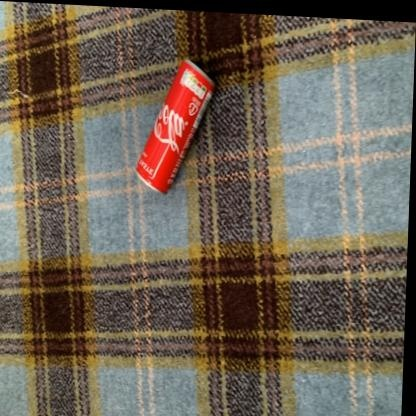trash: (136, 60, 213, 192)
